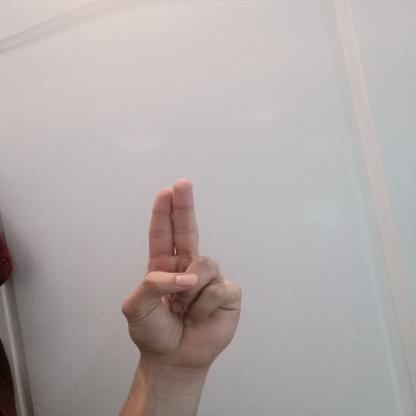TA: (104, 169, 258, 376)
